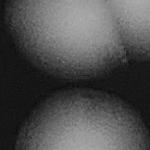colony: (0, 0, 137, 84), (7, 77, 150, 150), (79, 0, 150, 71)
